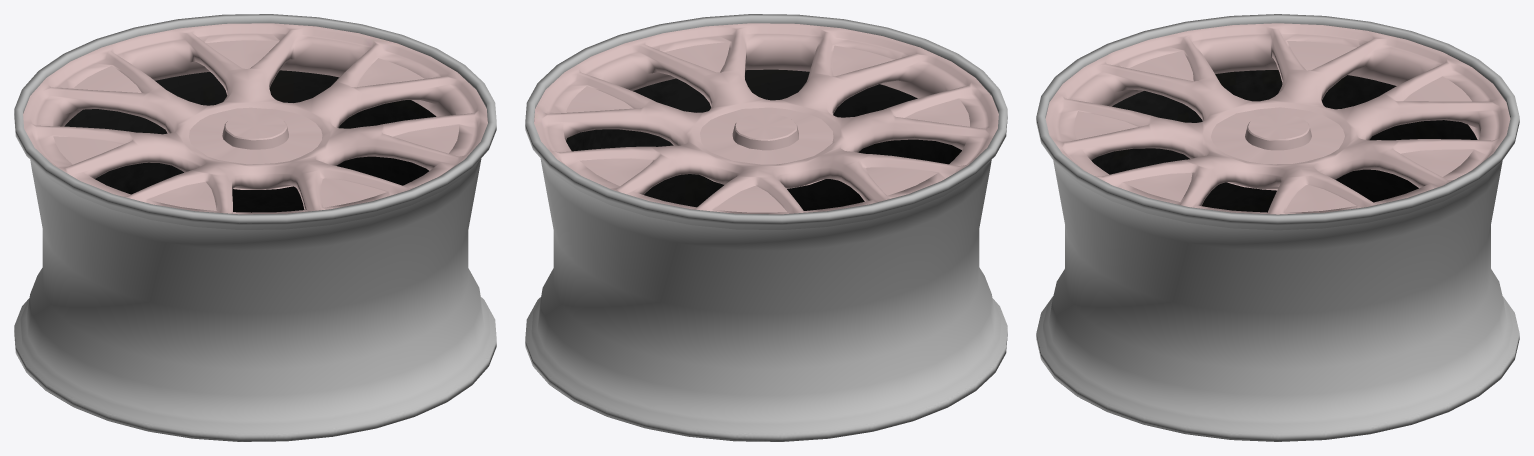
Rendered from audi_rim.obj.
3 renders of one model, left to right at view 1: azimuth 30°, elevation 25°; view 2: azimuth 150°, elevation 25°; view 3: azimuth 270°, elevation 25°, orthographic.
Parts seen in each view (by area): view 1: audi_rim; view 2: audi_rim; view 3: audi_rim.
Boxes of the visible parts, x1,y1,x2,y2 form: audi_rim: (14,14,496,441); audi_rim: (525,14,1007,441); audi_rim: (1036,14,1519,441).
Size of the model in its own units: 0.5369 by 0.2746 by 0.5369.
1 material, 1 textured.
